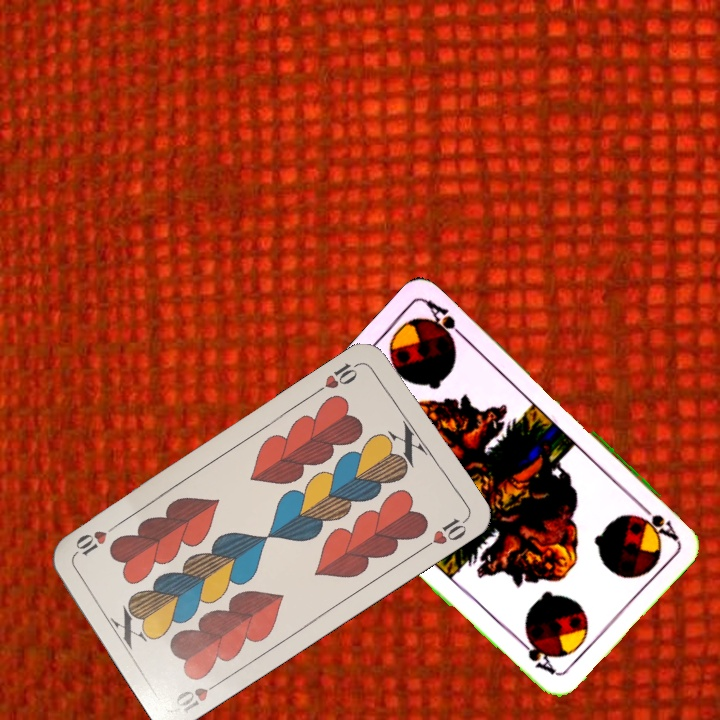H10: (171, 675, 226, 716), (313, 357, 366, 396)
SA: (632, 497, 680, 543)
